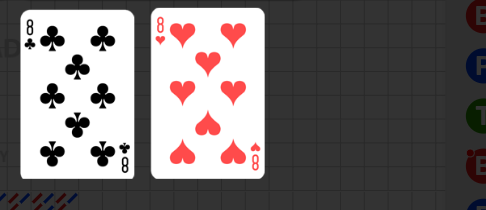8C: (117, 141, 131, 175)
8H: (249, 140, 262, 172)
